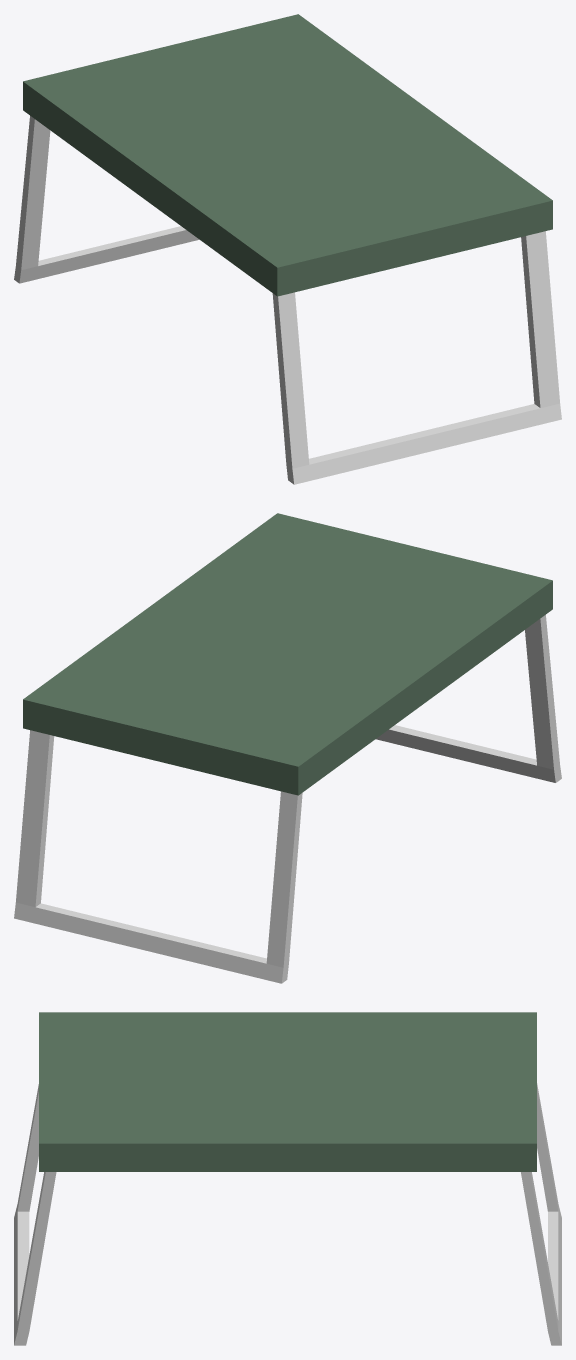
The model's file is Стол 1.fbx.
3 views of the same model, one above another, from view 1: azimuth 30°, elevation 25°; view 2: azimuth 150°, elevation 25°; view 3: azimuth 270°, elevation 25° (orthographic). The views are drawn at different scales.
Visible parts, largest first — view 1: Cube; view 2: Cube; view 3: Cube.
Boxes of the visible parts, <box> form: Cube: <box>14,14,561,484</box>; Cube: <box>14,513,561,983</box>; Cube: <box>14,1012,561,1345</box>.
Bounding box in the file's own units: 200 × 145 × 352.
